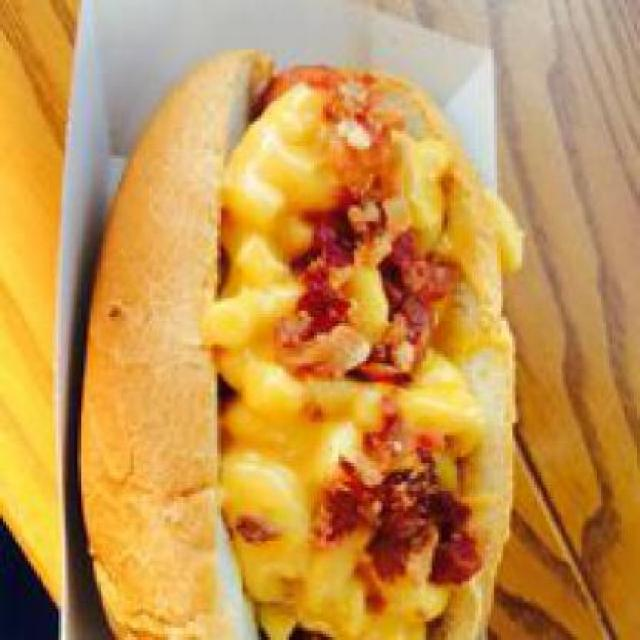hot dog: (252, 56, 346, 106)
macaroni and cheese: (212, 96, 522, 638)
